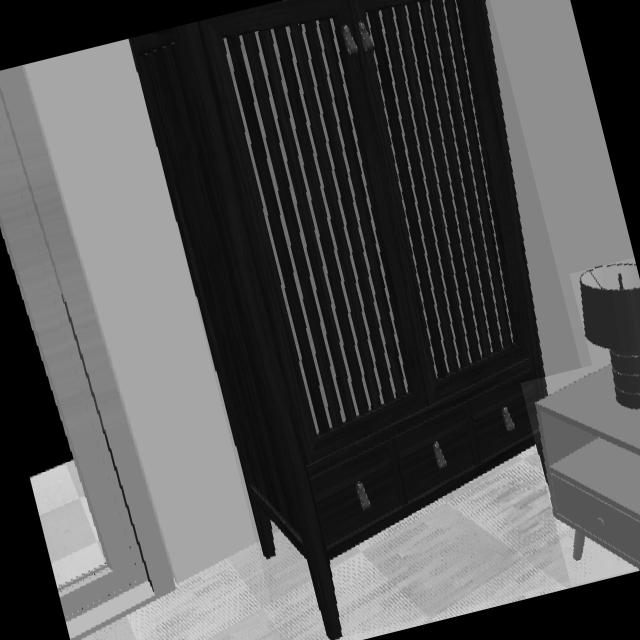lamp: (579, 263, 640, 409)
nighttable: (536, 361, 640, 570)
wardrobe: (130, 0, 547, 639)
